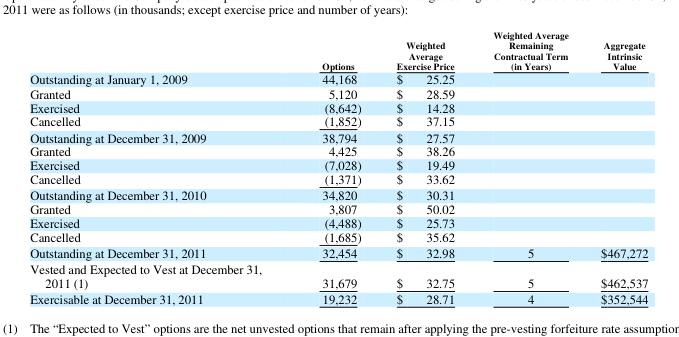table: (29, 28, 647, 305)
table column: (29, 28, 291, 305), (473, 28, 583, 305), (378, 28, 473, 305), (291, 28, 378, 305), (583, 28, 647, 305)
table column header: (29, 28, 647, 71)
table row: (29, 28, 647, 71), (29, 260, 647, 290), (29, 244, 647, 260), (29, 71, 647, 86), (29, 114, 647, 129), (29, 129, 647, 144), (29, 172, 647, 187), (29, 187, 647, 202), (29, 229, 647, 244), (29, 290, 647, 305), (29, 86, 647, 100), (29, 100, 647, 114), (29, 144, 647, 158), (29, 158, 647, 172), (29, 215, 647, 229), (29, 202, 647, 215)
